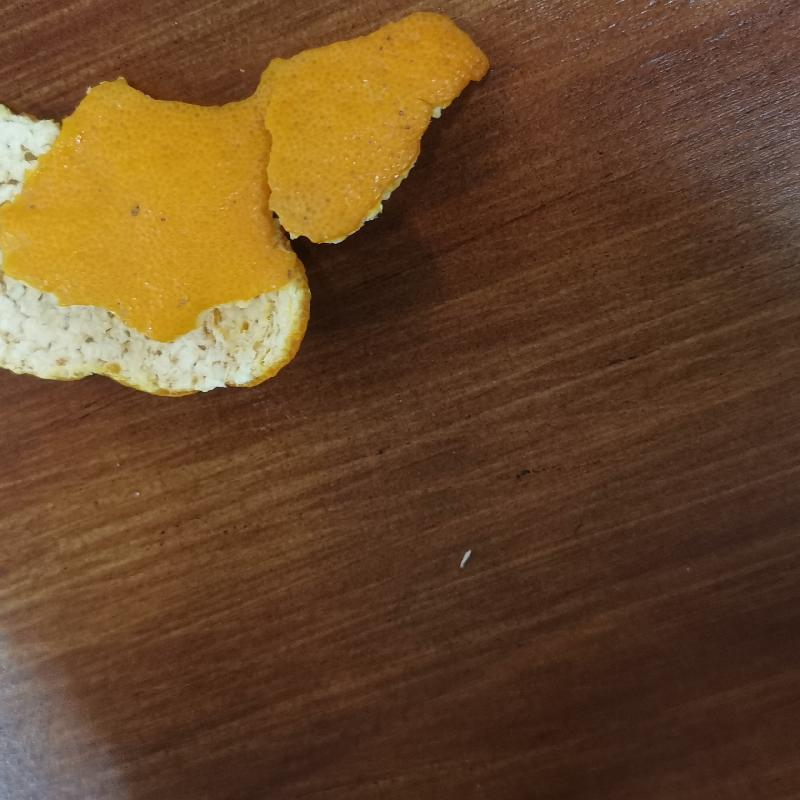orange: (0, 11, 488, 393)
